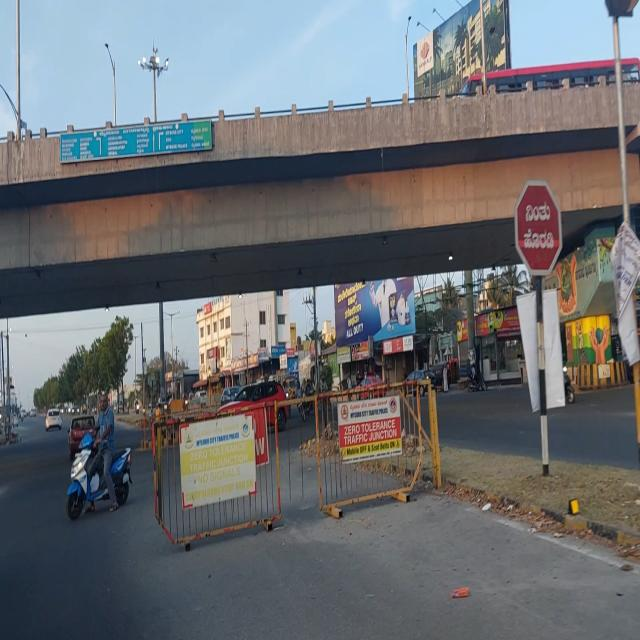bien_cam: (516, 180, 564, 275)
